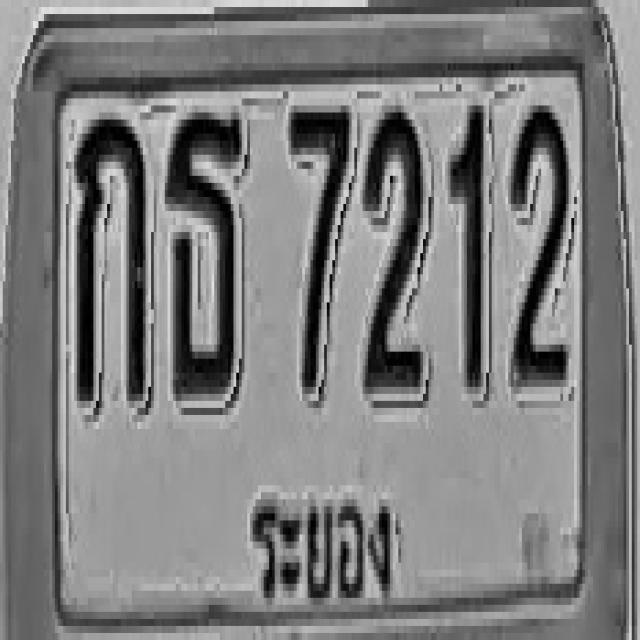1: (448, 98, 486, 394)
10GorGai: (74, 112, 148, 408)
2: (362, 105, 426, 394), (510, 102, 567, 383)
33ThorThong: (165, 105, 244, 401)
7: (288, 102, 349, 397)
